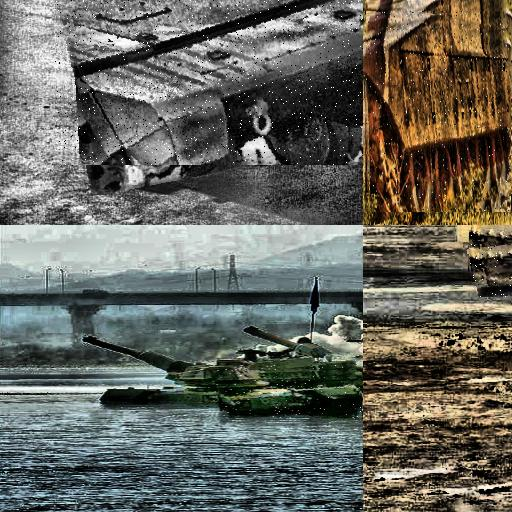tanks: (57, 1, 364, 166), (365, 13, 512, 212), (210, 366, 362, 419), (469, 244, 512, 298)
